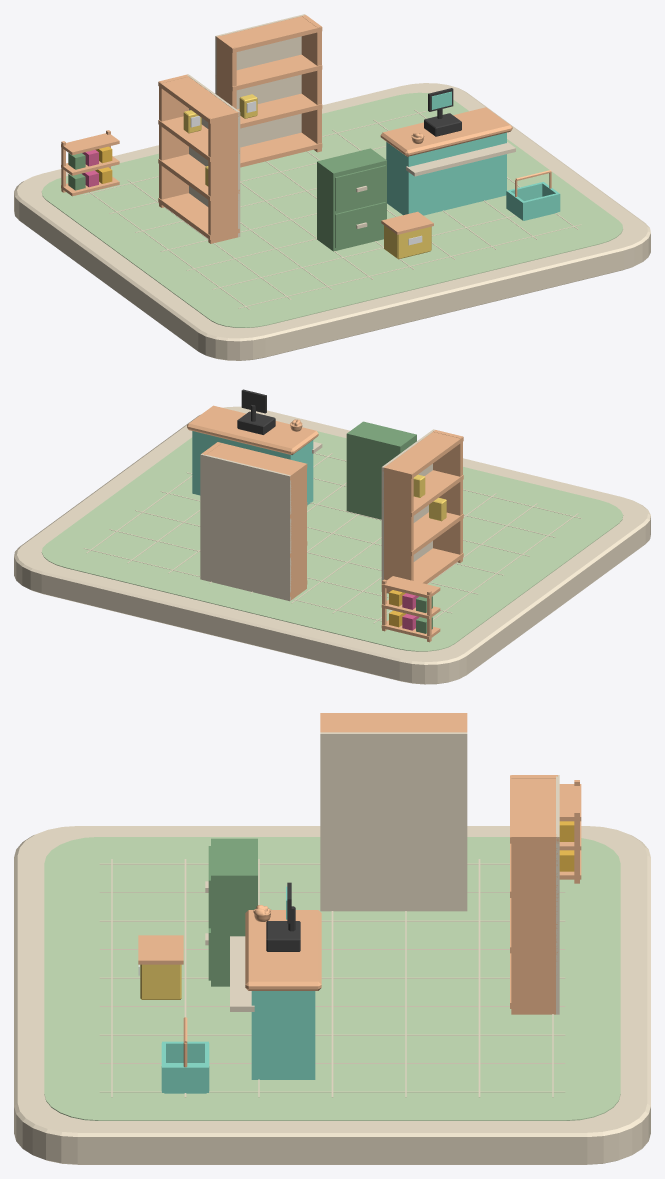
3 renders of one model, top to bottom at view 1: azimuth 30°, elevation 25°; view 2: azimuth 150°, elevation 25°; view 3: azimuth 270°, elevation 25°, orthographic. The views are drawn at different scales.
Parts seen in each view (by area): view 1: COM-02 Floor Surface, COM-01 Rounded Base Direct, Counter body, Cabinet, Back.001, Side.001, Countertop, Side, Side.003, Shelf.007, Shelf.006, Shelf.003 (+13 smaller); view 2: COM-02 Floor Surface, COM-01 Rounded Base Direct, Back.001, Cabinet, Side, Countertop, Side.002, Side.001, Counter body, Shelf.003, Shelf.007, Shelf.001 (+6 smaller); view 3: COM-02 Floor Surface, COM-01 Rounded Base Direct, Back, Side.003, Counter body, Cabinet, Countertop, Shelf.007, Shelf.003, Box, Lid, Visitor shelf (+8 smaller).
Boxes of the visible parts, x1=… form: COM-02 Floor Surface: x1=41, y1=92, x2=622, y2=327; COM-01 Rounded Base Direct: x1=14, y1=83, x2=650, y2=360; Counter body: x1=386, y1=132, x2=506, y2=215; Cabinet: x1=317, y1=148, x2=386, y2=251; Back.001: x1=215, y1=14, x2=305, y2=147; Side.001: x1=208, y1=110, x2=238, y2=243; Countertop: x1=380, y1=107, x2=512, y2=156; Side: x1=159, y1=74, x2=188, y2=207; Side.003: x1=301, y1=15, x2=321, y2=152; Shelf.007: x1=215, y1=16, x2=322, y2=52; Shelf.006: x1=215, y1=54, x2=322, y2=91; Shelf.003: x1=158, y1=77, x2=239, y2=123; COM-02 Floor Surface: x1=41, y1=431, x2=623, y2=651; COM-01 Rounded Base Direct: x1=14, y1=406, x2=650, y2=684; Back.001: x1=200, y1=454, x2=291, y2=601; Cabinet: x1=346, y1=421, x2=416, y2=519; Side: x1=384, y1=465, x2=413, y2=593; Countertop: x1=187, y1=405, x2=318, y2=454; Side.002: x1=287, y1=463, x2=306, y2=600; Side.001: x1=433, y1=430, x2=462, y2=562; Counter body: x1=192, y1=431, x2=313, y2=505; Shelf.003: x1=382, y1=432, x2=463, y2=478; Shelf.007: x1=206, y1=442, x2=307, y2=480; Shelf.001: x1=384, y1=512, x2=463, y2=555; COM-02 Floor Surface: x1=44, y1=837, x2=620, y2=1120; COM-01 Rounded Base Direct: x1=14, y1=826, x2=650, y2=1164; Back: x1=320, y1=732, x2=467, y2=911; Side.003: x1=511, y1=834, x2=557, y2=1014; Counter body: x1=251, y1=991, x2=315, y2=1079; Cabinet: x1=205, y1=838, x2=257, y2=986; Countertop: x1=245, y1=910, x2=321, y2=990; Shelf.007: x1=510, y1=775, x2=558, y2=843; Shelf.003: x1=320, y1=713, x2=466, y2=732; Box: x1=140, y1=964, x2=181, y2=999; Lid: x1=138, y1=935, x2=183, y2=964; Visitor shelf: x1=230, y1=936, x2=254, y2=1011.
Bounding box in the file's own units: 6 × 1.9 × 5.2.
1 material, 1 textured.
